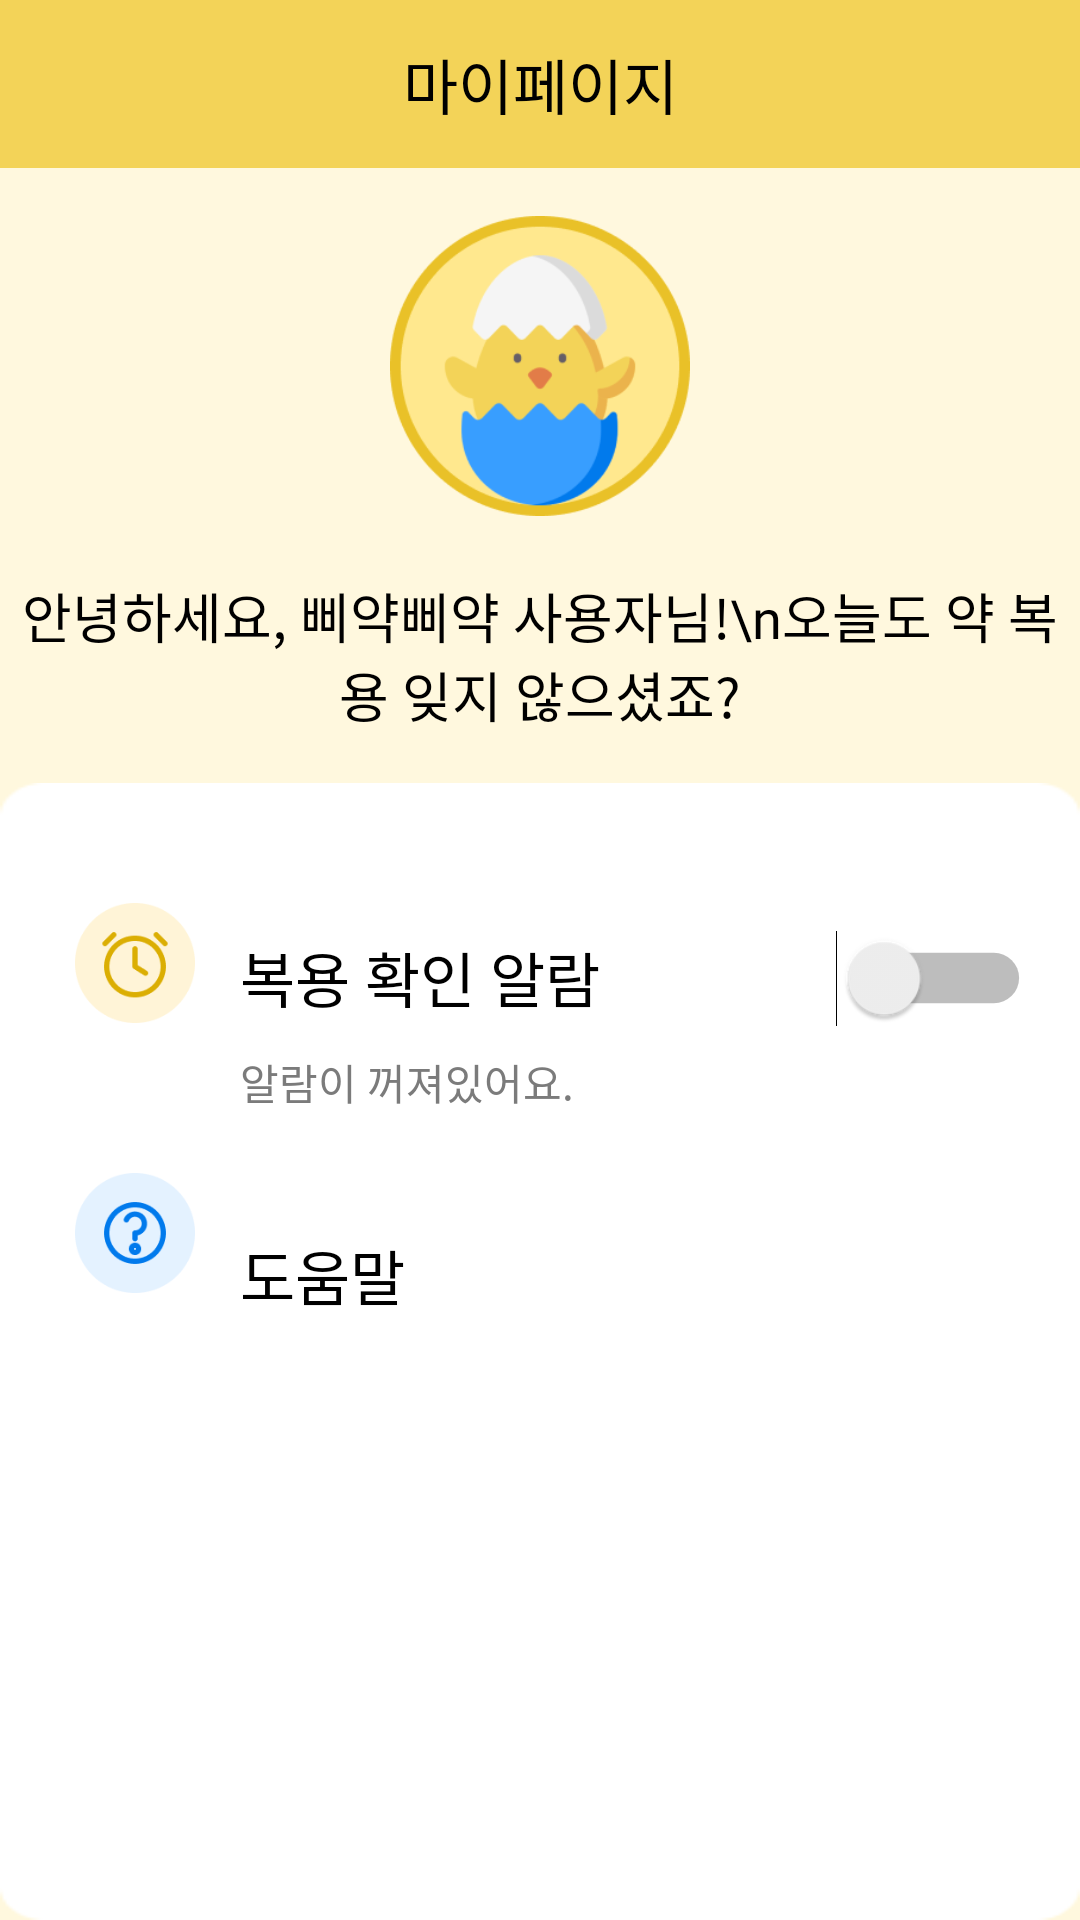

Screen size 1080px x 1920px. Icon name, then its center in pixels as (x,y):
mypage alaram: (135,963)
mypage guide: (135,1233)
